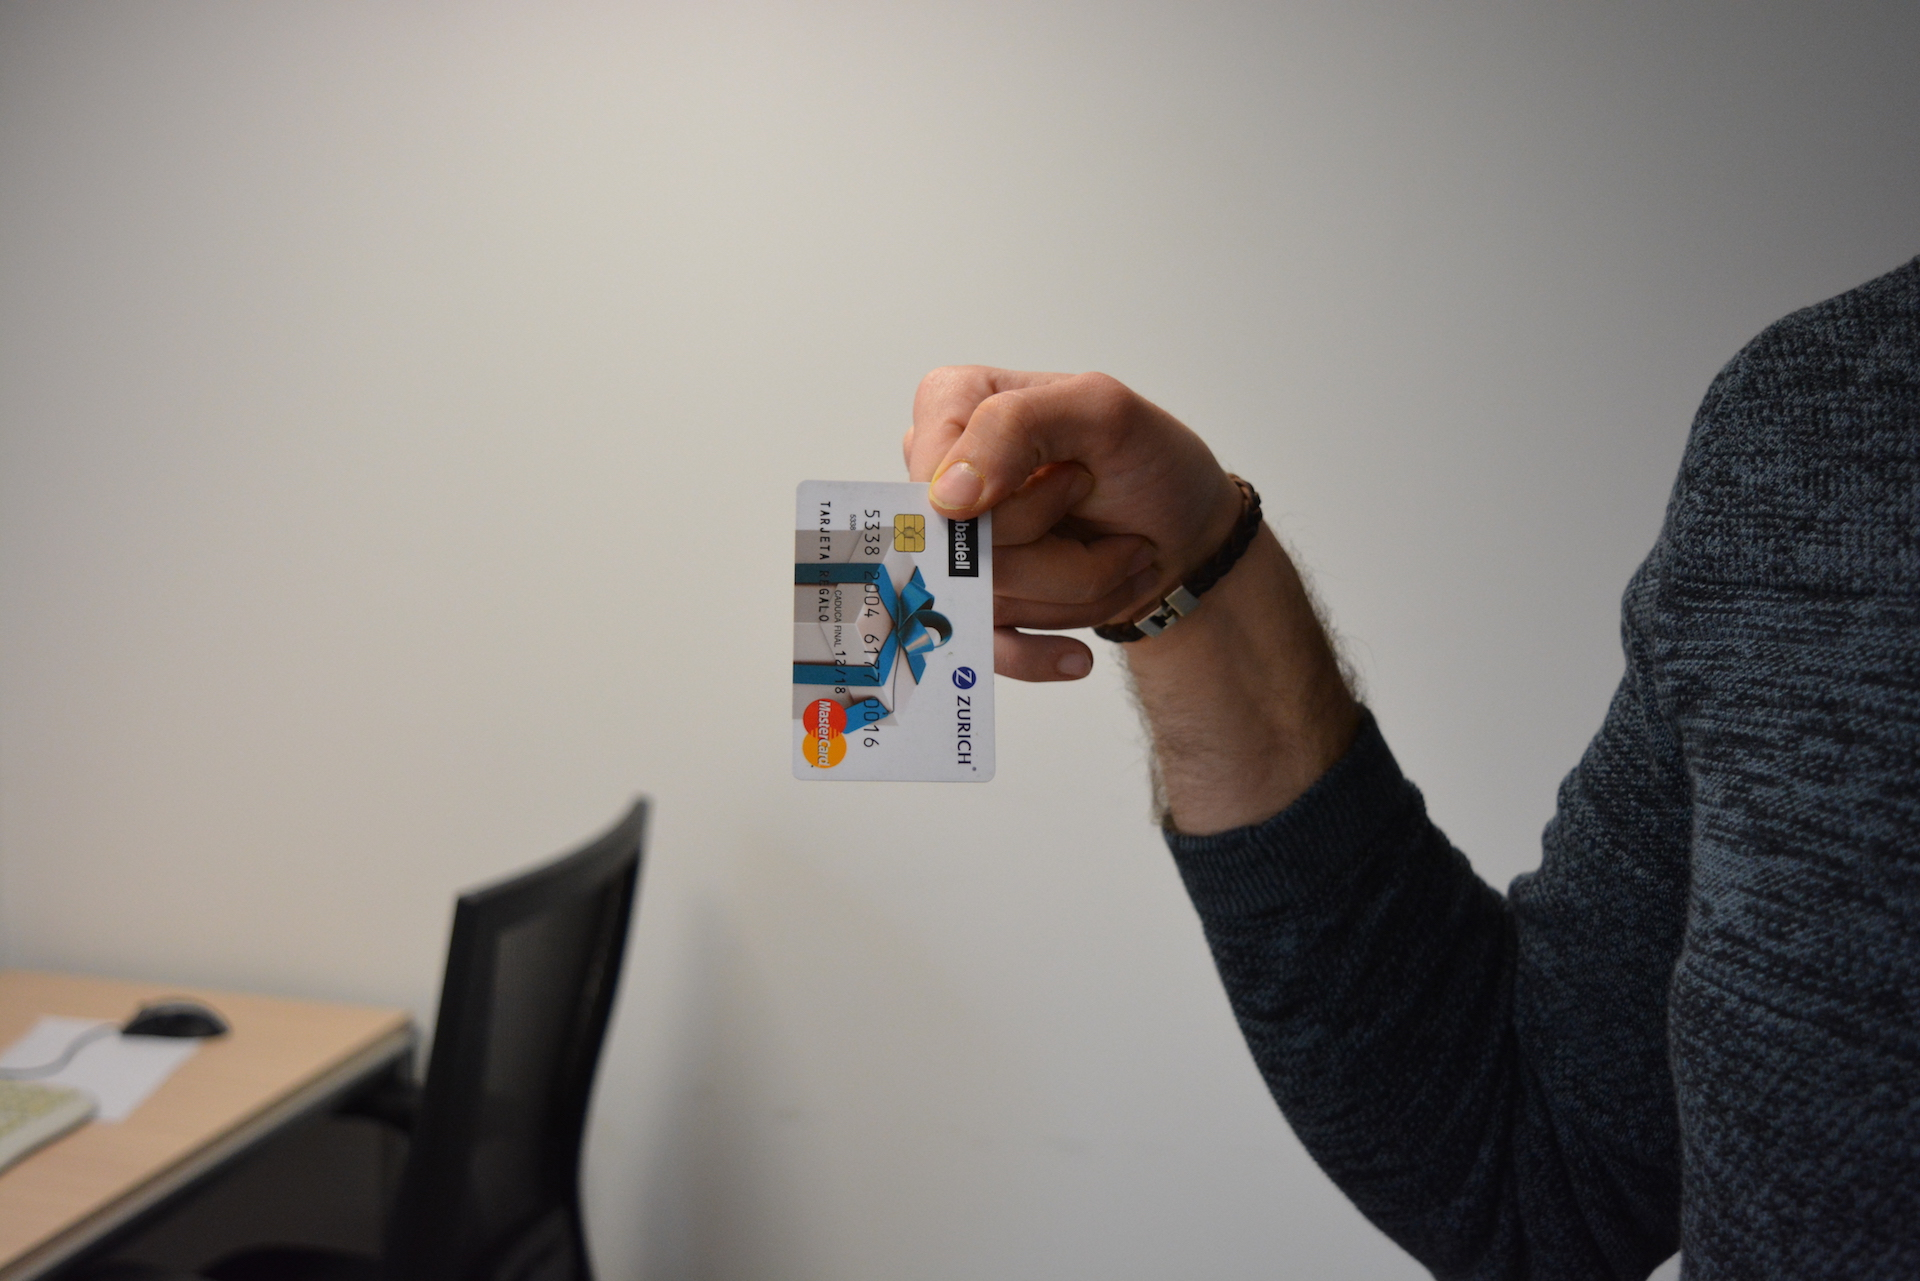tarjeta: (791, 478, 996, 783)
